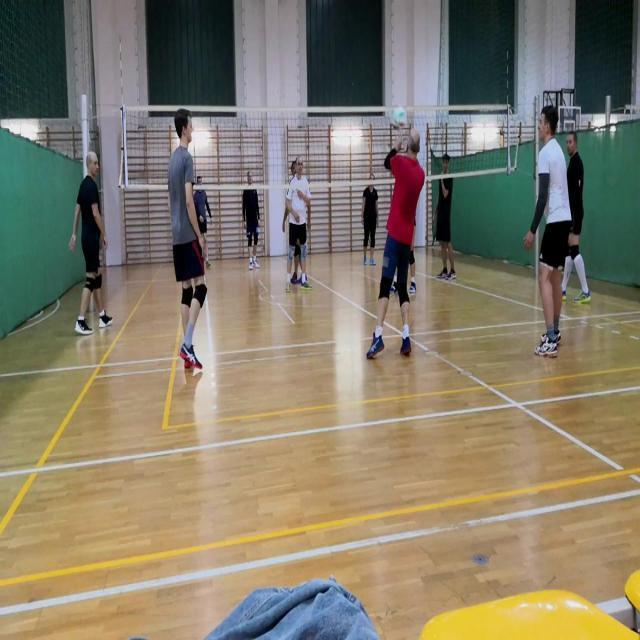volleyball: (390, 107, 407, 129)
